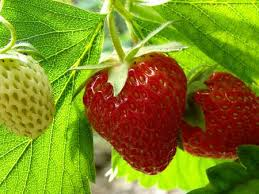ripe: (81, 46, 188, 179), (178, 62, 255, 185)
unripe: (1, 41, 67, 148)
